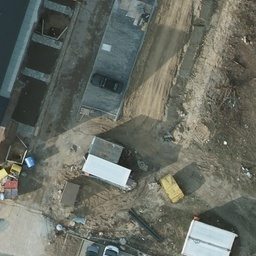car: (90, 71, 128, 95)
